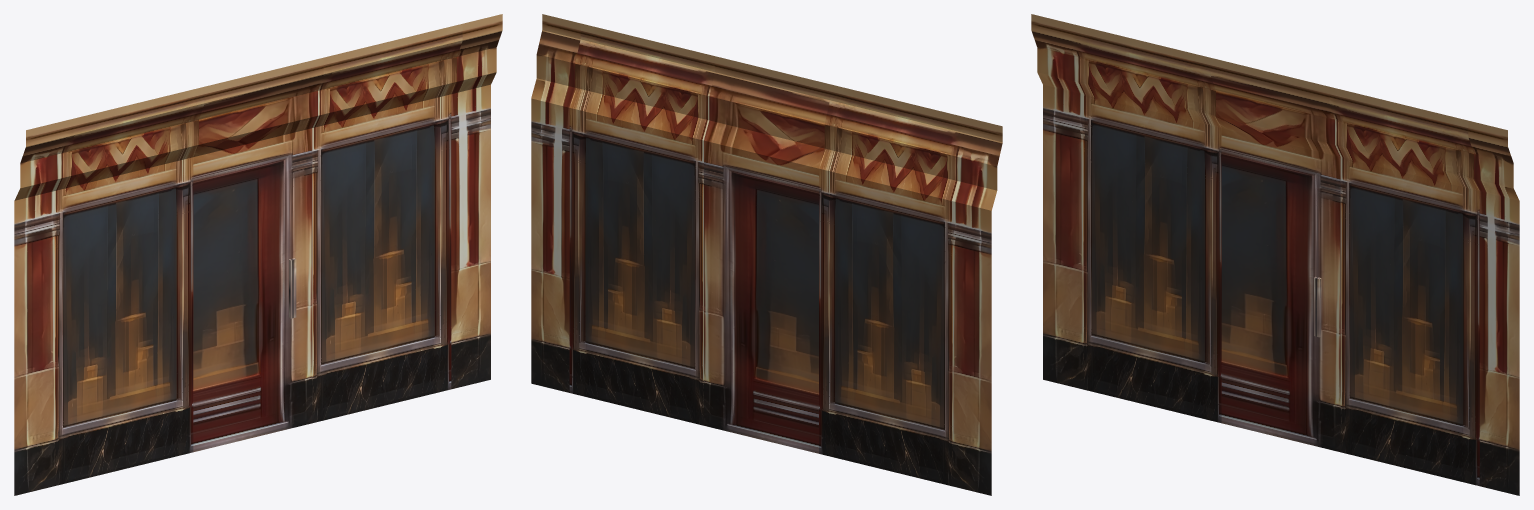
The model's file is DECO_G_Bay6B.fbx.
3 renders of one model, left to right at view 1: azimuth 30°, elevation 25°; view 2: azimuth 150°, elevation 25°; view 3: azimuth 330°, elevation 25°, orthographic. The views are drawn at different scales.
Parts seen in each view (by area): view 1: DECO_G_Bay6B; view 2: DECO_G_Bay6B; view 3: DECO_G_Bay6B.
Part boxes in pixels (x1=…): DECO_G_Bay6B: x1=14, y1=14, x2=502, y2=495; DECO_G_Bay6B: x1=531, y1=14, x2=1002, y2=495; DECO_G_Bay6B: x1=1031, y1=14, x2=1519, y2=495.
Size of the model in its own units: 6 by 0.25 by 4.5.
Materials: 1 (1 with a texture image).
